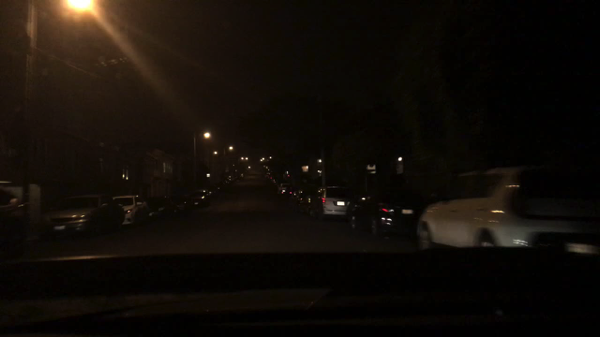car: (416, 166, 598, 250), (349, 191, 425, 237), (41, 195, 115, 239), (308, 185, 358, 220), (0, 186, 27, 244), (111, 195, 147, 228), (147, 196, 175, 222), (170, 197, 191, 212), (189, 194, 209, 206), (299, 189, 313, 205), (290, 189, 308, 201), (277, 183, 291, 193), (195, 189, 210, 195), (279, 190, 290, 198), (207, 187, 217, 195), (272, 180, 281, 186), (269, 176, 277, 182), (226, 176, 235, 181), (233, 174, 240, 180), (239, 172, 245, 178), (267, 172, 273, 178), (216, 186, 224, 190), (223, 180, 232, 183)
